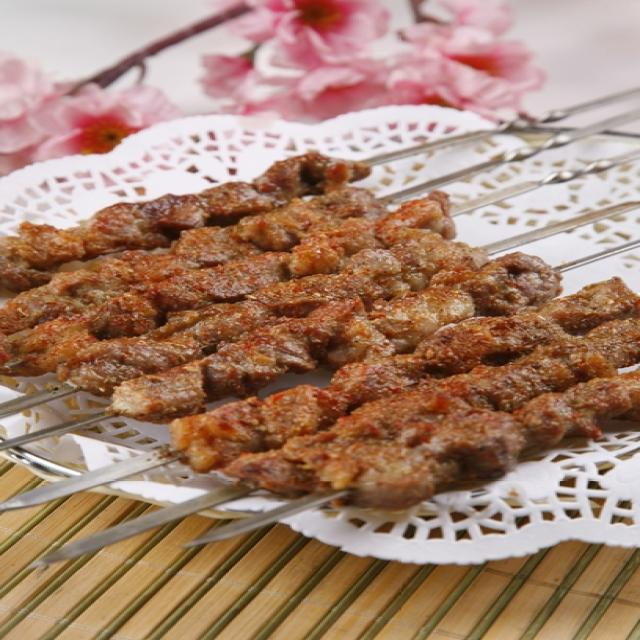烧串烤肉: (13, 53, 621, 551)
